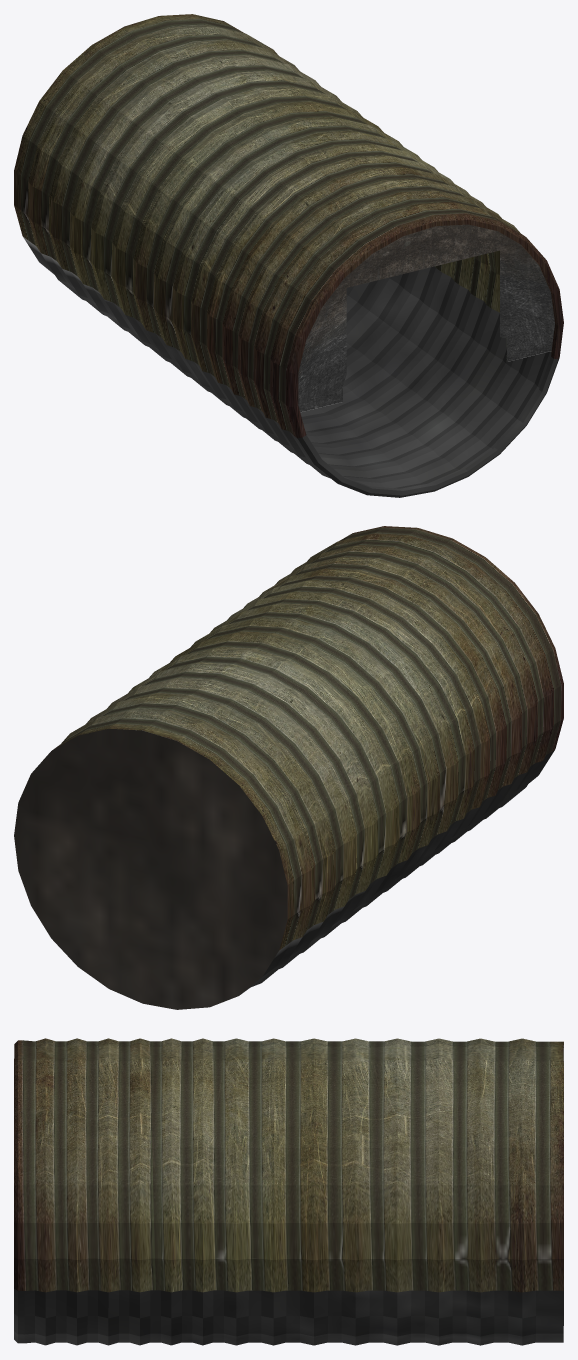
File: Hangar Large New.dae
3 views of the same model, one above another, from view 1: azimuth 30°, elevation 25°; view 2: azimuth 150°, elevation 25°; view 3: azimuth 270°, elevation 25° (orthographic).
Parts seen in each view (by area): view 1: Cylinder3_copy17-0; view 2: Cylinder3_copy17-0; view 3: Cylinder3_copy17-0.
Part boxes in pixels (x1,y1,x2,y2): Cylinder3_copy17-0: [14, 14, 563, 497]; Cylinder3_copy17-0: [14, 526, 563, 1009]; Cylinder3_copy17-0: [14, 1038, 563, 1345].
Bounding box in the file's own units: 8.53 × 8.15 × 14.7.
